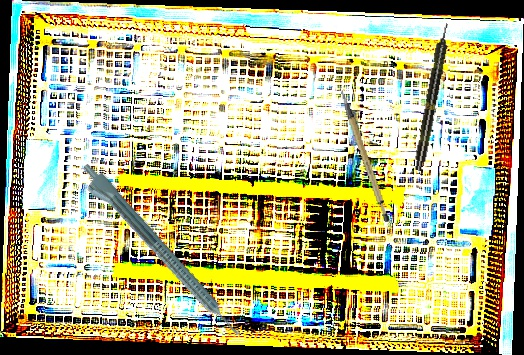Handpiece: (71, 158, 245, 348), (411, 22, 454, 172)
Scalpel Handle: (339, 84, 392, 226)
